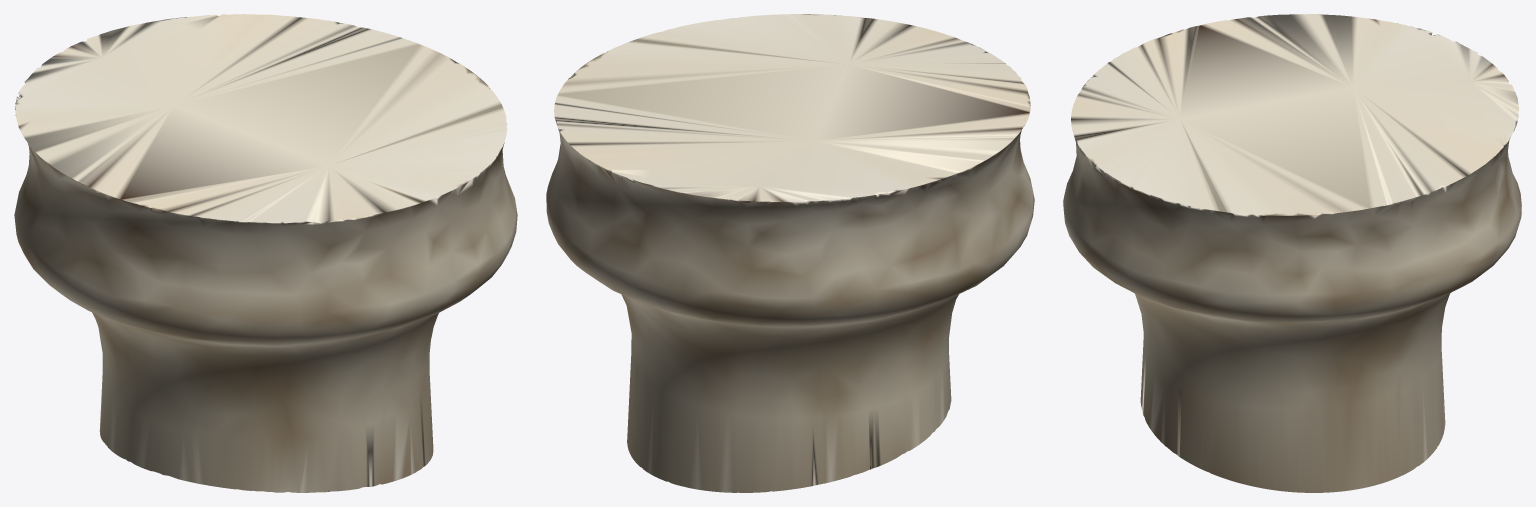
File: amanita-scout-stem-top.glb
3 renders of one model, left to right at view 1: azimuth 30°, elevation 25°; view 2: azimuth 150°, elevation 25°; view 3: azimuth 270°, elevation 25°, orthographic. The views are drawn at different scales.
Visible parts, largest first — view 1: body; view 2: body; view 3: body.
Boxes of the visible parts, bbox=[...] form: body: bbox=[14, 14, 517, 492]; body: bbox=[546, 14, 1034, 492]; body: bbox=[1063, 14, 1521, 492].
Size of the model in its own units: 0.5086 by 0.3943 by 0.5086.
